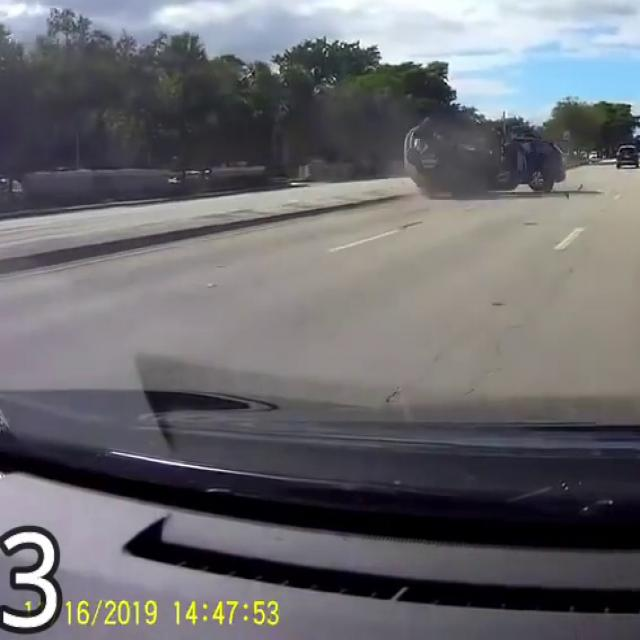accident: (384, 101, 526, 196)
